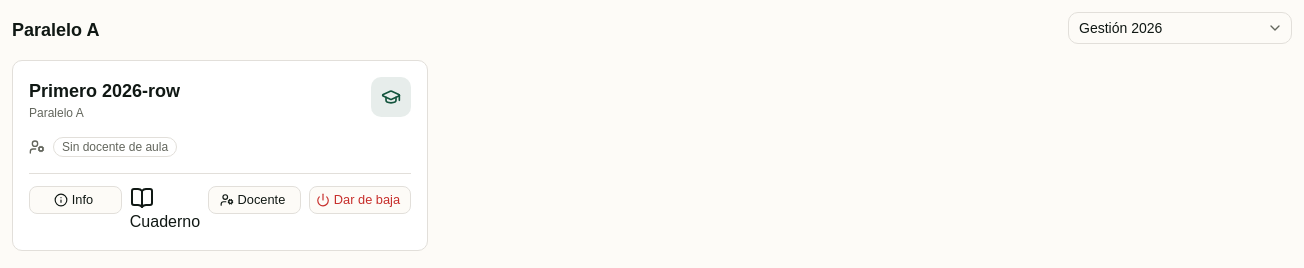
Test: ParallelCoursesPage › refetches the courses of the year the Director switches to
Click the dropdown at point(1180, 28), box [1068,12,1292,44]
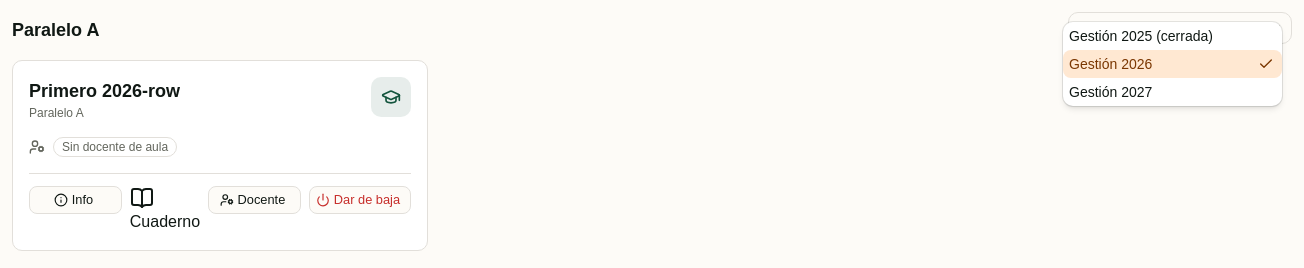
Click the option "Gestión 2027" at point(1111, 92), box [1069,84,1152,100]
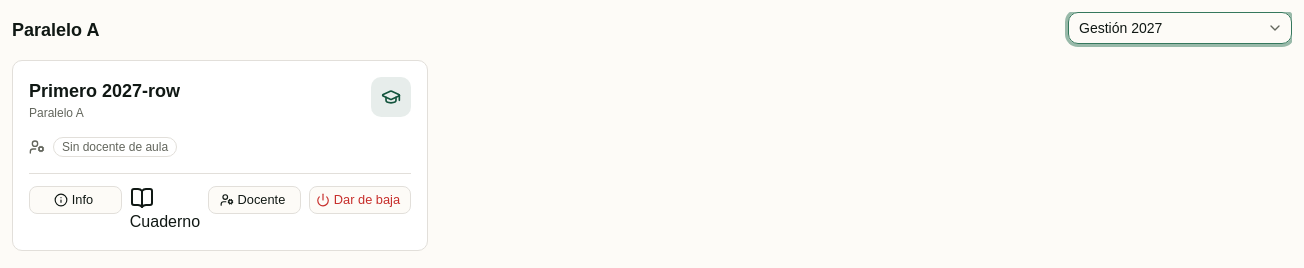
Expected: the text "Primero 2027-row" is shown, [29,77,180,105]
Expected: the text "Primero 2026-row" is gone
